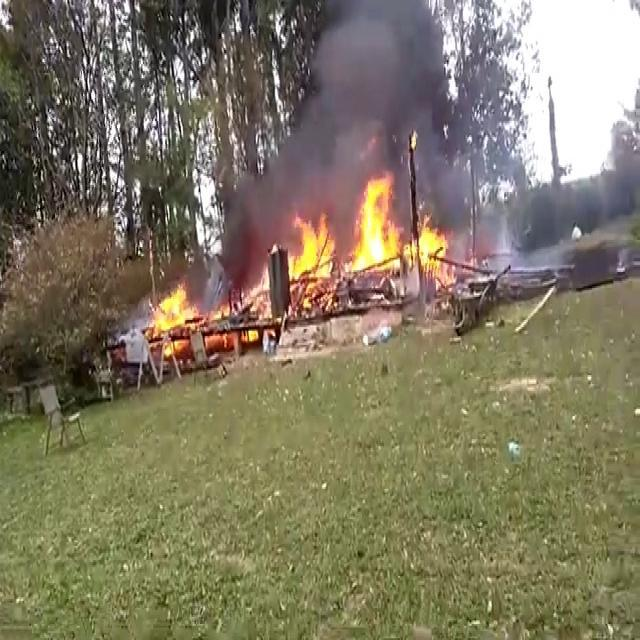Fire: (357, 192, 400, 262), (300, 228, 338, 284), (157, 290, 195, 334)
Smoke: (297, 48, 390, 205)
